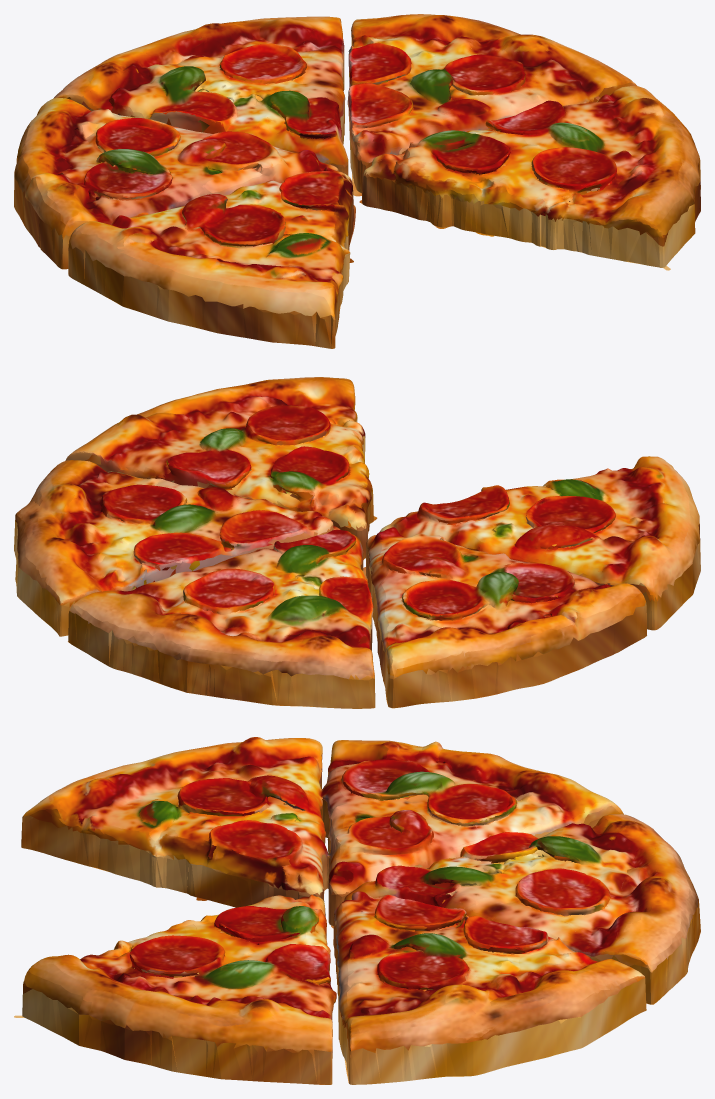
3 views of the same model, one above another, from view 1: azimuth 30°, elevation 25°; view 2: azimuth 150°, elevation 25°; view 3: azimuth 270°, elevation 25° (orthographic). The views are drawn at different scales.
Visible parts, largest first — view 1: geometry_0; view 2: geometry_0; view 3: geometry_0.
Part boxes in pixels (bbox=[...]): geometry_0: bbox=[14, 14, 700, 348]; geometry_0: bbox=[14, 377, 700, 708]; geometry_0: bbox=[14, 737, 700, 1084].
Bounding box in the file's own units: 0.3 × 0.0301 × 0.289.
Materials: 2 (2 with a texture image).
